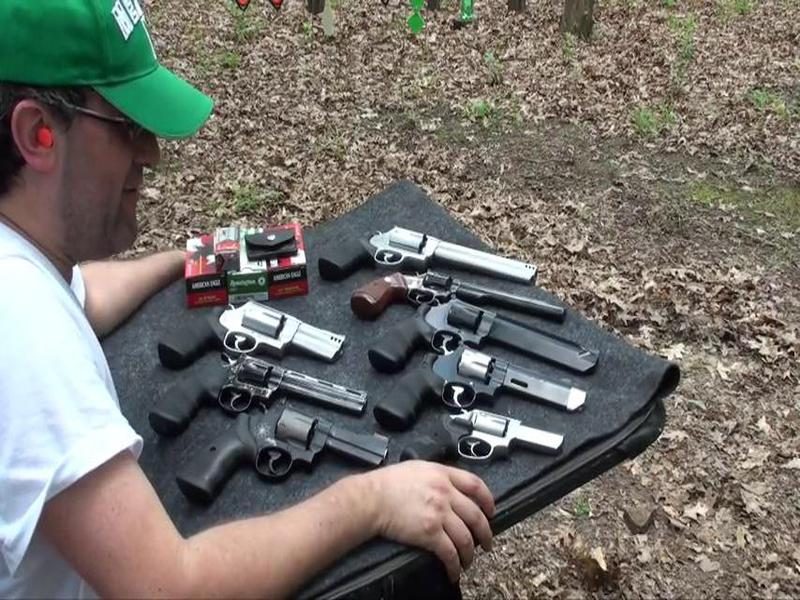Revolver: (361, 338, 593, 434)
